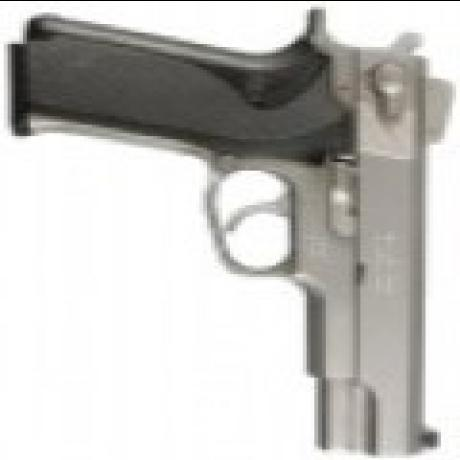weapon: (0, 0, 455, 455)
